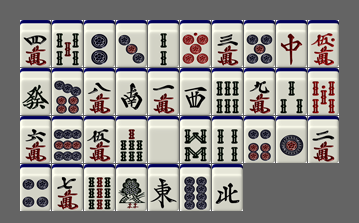0m: (308, 20, 339, 67)
0p: (180, 20, 211, 67)
0s: (308, 68, 339, 115)
1m: (148, 68, 179, 115)
1p: (276, 116, 307, 163)
1s: (116, 164, 147, 211)
1z: (148, 164, 179, 211)
2m: (308, 116, 339, 163)
2p: (84, 20, 115, 67)
2s: (148, 20, 179, 67)
2z: (116, 68, 147, 115)
3m: (212, 20, 243, 67)
3p: (116, 20, 147, 67)
3s: (276, 68, 307, 115)
3z: (180, 68, 211, 115)
4m: (20, 20, 51, 67)
4p: (20, 164, 51, 211)
4s: (212, 116, 243, 163)
4z: (212, 164, 243, 211)
5m: (84, 116, 115, 163)
5p: (244, 20, 275, 67)
5s: (52, 20, 83, 67)
5z: (148, 116, 179, 163)
6m: (20, 116, 51, 163)
6p: (244, 116, 275, 163)
6s: (212, 68, 243, 115)
6z: (20, 68, 51, 115)
7m: (52, 164, 83, 211)
7p: (52, 68, 83, 115)
7s: (116, 116, 147, 163)
7z: (276, 20, 307, 67)
8m: (84, 68, 115, 115)
8p: (180, 164, 211, 211)
8s: (180, 116, 211, 163)
9m: (244, 68, 275, 115)
9p: (52, 116, 83, 163)
9s: (84, 164, 115, 211)
